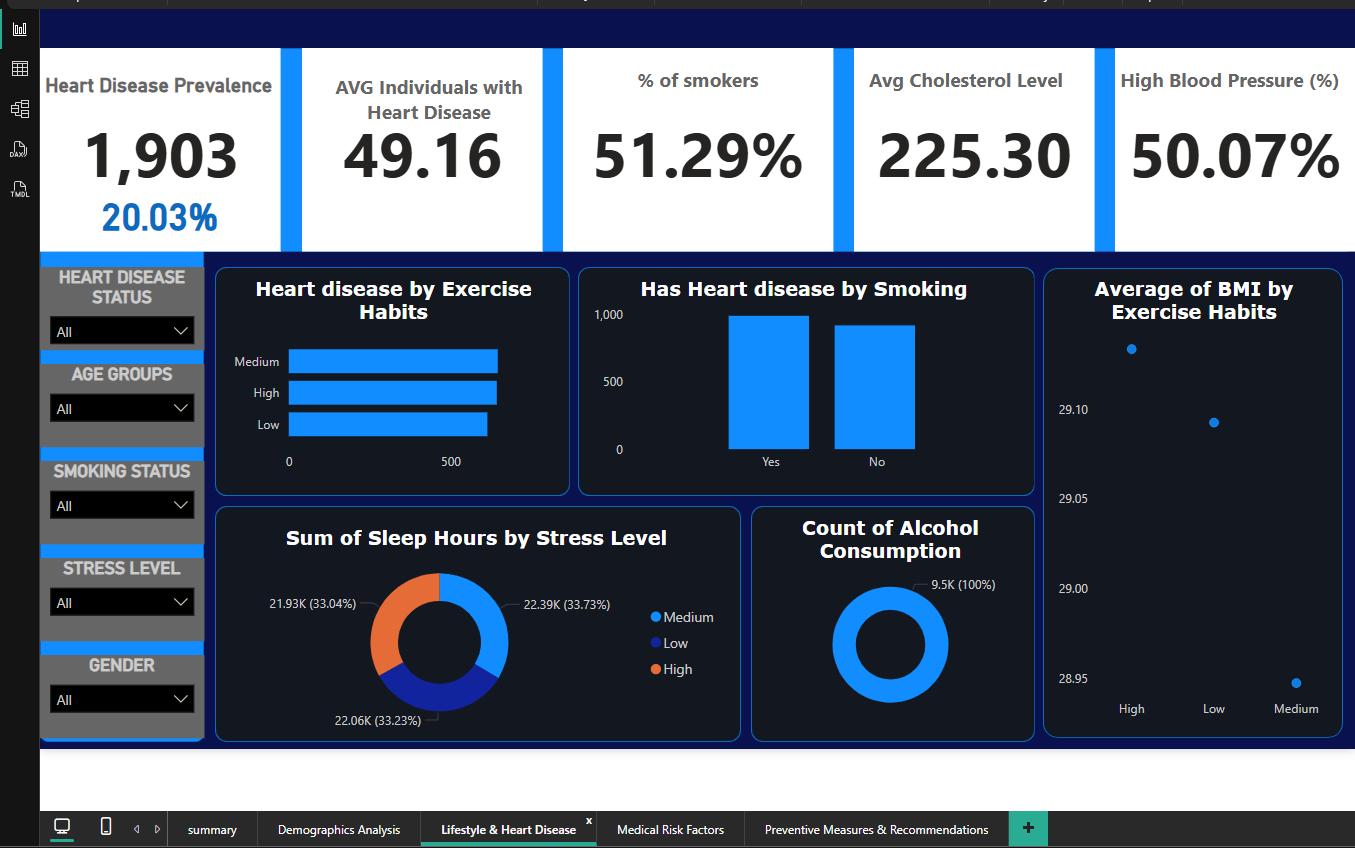

This screenshot's page, from the dashboard's own definition file:
{"tool":"powerbi","page":{"name":"Lifestyle & Heart Disease","canvas":[1280,720],"ordinal":2},"visuals":[{"type":"shape","box":[0,37.9,1280,198.4],"z":0},{"type":"shape","box":[0,37.9,159.5,675],"z":1000},{"type":"card","fields":{"Values":["Measures (2).Has Heart disease"]},"box":[0,37.9,234.4,198.4],"z":2000},{"type":"textbox","box":[0,57.4,233.4,72.9],"z":3000},{"type":"card","fields":{"Values":["Measures (2).Heart Disease Prevalence (%)"]},"box":[30.2,172.2,172.2,54.5],"z":4000},{"type":"card","fields":{"Values":["Measures (2).Average Age of Individuals with Heart Disease"]},"box":[254.3,37.9,234.4,198.4],"z":5000},{"type":"textbox","box":[261.6,57.4,233.4,86.6],"z":6000},{"type":"card","fields":{"Values":["Measures (2).% of smokers"]},"box":[508.7,37.9,262.6,198.4],"z":7000},{"type":"textbox","box":[523.3,50.6,233.4,73.9],"z":8000},{"type":"card","fields":{"Values":["Measures (2).Avg Cholesterole level"]},"box":[791.2,37.9,234.4,198.4],"z":9000},{"type":"textbox","box":[784,50.6,233.4,73.9],"z":10000},{"type":"card","fields":{"Values":["Measures (2).individuals with HBP (%)"]},"box":[1045.6,37.9,234.4,198.4],"z":11000},{"type":"shape","box":[170.2,250.9,345.3,222.7],"z":12000},{"type":"textbox","box":[1045.6,50.6,234.4,61.3],"z":13000},{"type":"shape","box":[170.2,483.4,511.6,229.5],"z":14000},{"type":"shape","box":[523.3,250.9,444.5,222.7],"z":15000},{"type":"shape","box":[691.6,483.4,276.2,229.5],"z":16000},{"type":"slicer","title":"HEART DISEASE STATUS","fields":{"Values":["heart_disease.Heart Disease Status"]},"box":[0,250.9,159.5,80.7],"z":17000},{"type":"slicer","title":"AGE GROUPS","fields":{"Values":["heart_disease.Age Group"]},"box":[0,345.3,159.5,80.7],"z":18000},{"type":"slicer","title":"SMOKING STATUS","fields":{"Values":["heart_disease.Smoking"]},"box":[0,439.6,159.5,80.7],"z":19000},{"type":"slicer","title":"STRESS LEVEL","fields":{"Values":["heart_disease.Stress Level"]},"box":[0,534,159.5,80.7],"z":20000},{"type":"slicer","title":"GENDER","fields":{"Values":["heart_disease.Gender"]},"box":[0,628.3,159.5,80.7],"z":21000},{"type":"shape","box":[975.6,251.9,291.8,457.1],"z":22000},{"type":"barChart","title":"Heart disease by Exercise Habits","fields":{"Category":["heart_disease.Exercise Habits"],"Y":["Measures (2).Has Heart disease"]},"box":[179,259.7,329.7,198.4],"z":23000},{"type":"clusteredColumnChart","fields":{"Category":["heart_disease.Smoking"],"Y":["Measures (2).Has Heart disease"]},"box":[533,259.7,420.2,198.4],"z":24000},{"type":"donutChart","fields":{"Category":["heart_disease.Stress Level"],"Y":["Sum(heart_disease.Sleep Hours)"]},"box":[179,501.9,491.2,205.2],"z":25000},{"type":"donutChart","fields":{"Y":["CountNonNull(heart_disease.Alcohol Consumption)"]},"box":[701.3,492.2,251.9,206.2],"z":26000},{"type":"scatterChart","fields":{"X":["heart_disease.Exercise Habits"],"Y":["Avg(heart_disease.BMI)"]},"box":[985.3,259.7,274.3,438.7],"z":27000}]}

Visuals, with their boxes on the page's 1280x720 design canvas (x1, y1, x2, y2). These are canvas units, not pixel positions in the 1355x848 screenshot, which may show the page scaled, cropped or inside an application window:
shape: left=0, top=38, right=1280, bottom=236
shape: left=0, top=38, right=160, bottom=713
card - Measures (2).Has Heart disease: left=0, top=38, right=234, bottom=236
textbox: left=0, top=57, right=233, bottom=130
card - Measures (2).Heart Disease Prevalence (%): left=30, top=172, right=202, bottom=227
card - Measures (2).Average Age of Individuals with Heart Disease: left=254, top=38, right=489, bottom=236
textbox: left=262, top=57, right=495, bottom=144
card - Measures (2).% of smokers: left=509, top=38, right=771, bottom=236
textbox: left=523, top=51, right=757, bottom=124
card - Measures (2).Avg Cholesterole level: left=791, top=38, right=1026, bottom=236
textbox: left=784, top=51, right=1017, bottom=124
card - Measures (2).individuals with HBP (%): left=1046, top=38, right=1280, bottom=236
shape: left=170, top=251, right=516, bottom=474
textbox: left=1046, top=51, right=1280, bottom=112
shape: left=170, top=483, right=682, bottom=713
shape: left=523, top=251, right=968, bottom=474
shape: left=692, top=483, right=968, bottom=713
"HEART DISEASE STATUS" slicer: left=0, top=251, right=160, bottom=332
"AGE GROUPS" slicer: left=0, top=345, right=160, bottom=426
"SMOKING STATUS" slicer: left=0, top=440, right=160, bottom=520
"STRESS LEVEL" slicer: left=0, top=534, right=160, bottom=615
"GENDER" slicer: left=0, top=628, right=160, bottom=709
shape: left=976, top=252, right=1267, bottom=709
"Heart disease by Exercise Habits" barChart: left=179, top=260, right=509, bottom=458
clusteredColumnChart - heart_disease.Smoking x Measures (2).Has Heart disease: left=533, top=260, right=953, bottom=458
donutChart - heart_disease.Stress Level x Sum(heart_disease.Sleep Hours): left=179, top=502, right=670, bottom=707
donutChart - CountNonNull(heart_disease.Alcohol Consumption): left=701, top=492, right=953, bottom=698
scatterChart - heart_disease.Exercise Habits x Avg(heart_disease.BMI): left=985, top=260, right=1260, bottom=698
